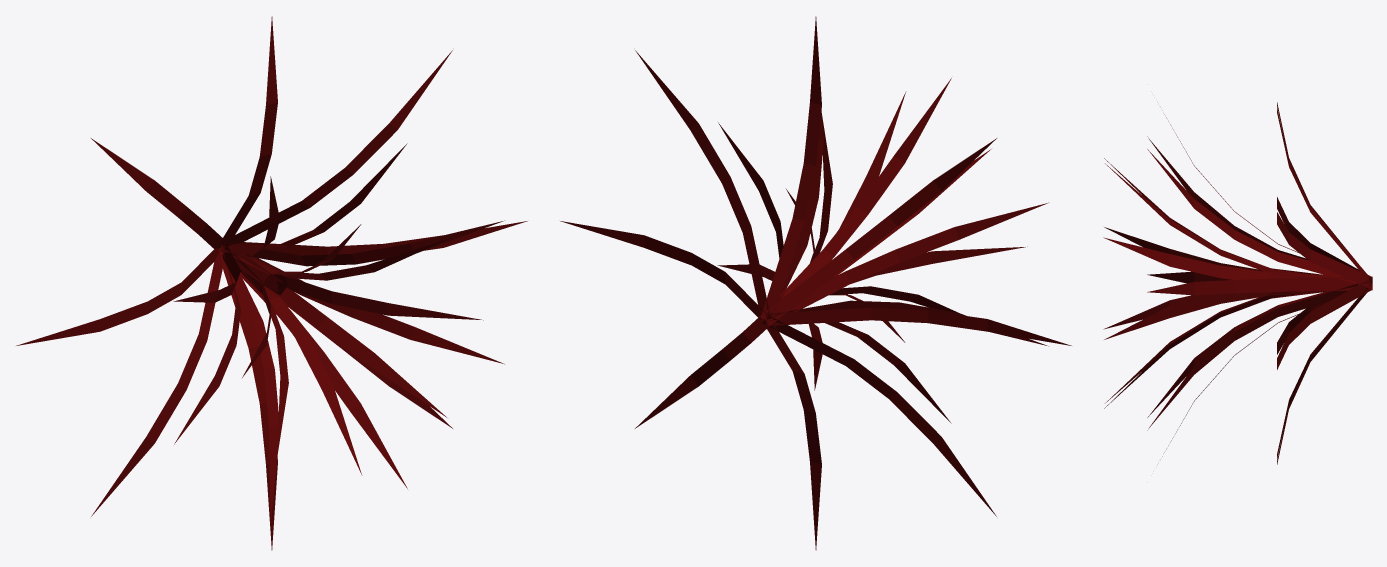
The picture shows the model from 3 angles, left to right: view 1: azimuth 30°, elevation 25°; view 2: azimuth 150°, elevation 25°; view 3: azimuth 270°, elevation 25°; orthographic projection. The views are drawn at different scales.
Visible parts, largest first — view 1: red plant; view 2: red plant; view 3: red plant.
Boxes of the visible parts, box(x1,y1,x2,y2) form: red plant: box(16, 16, 527, 550); red plant: box(560, 16, 1071, 550); red plant: box(1103, 102, 1372, 464).
Size of the model in its own units: 33.41 by 33.41 by 15.75.
